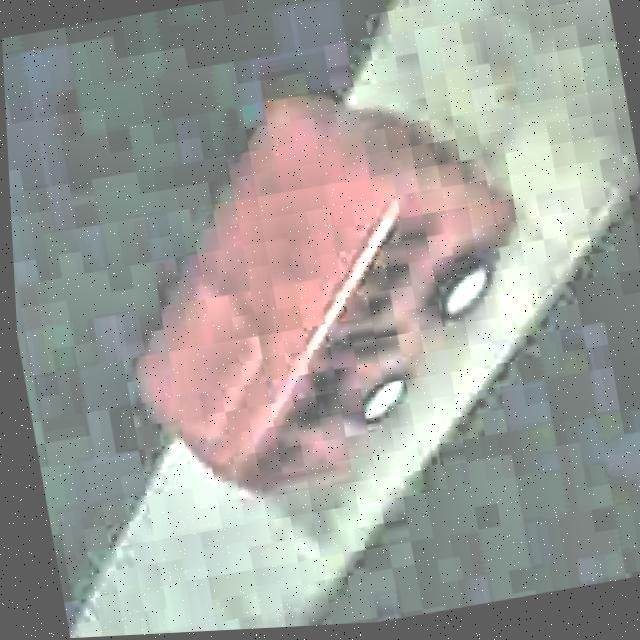bus: (88, 57, 562, 518)
